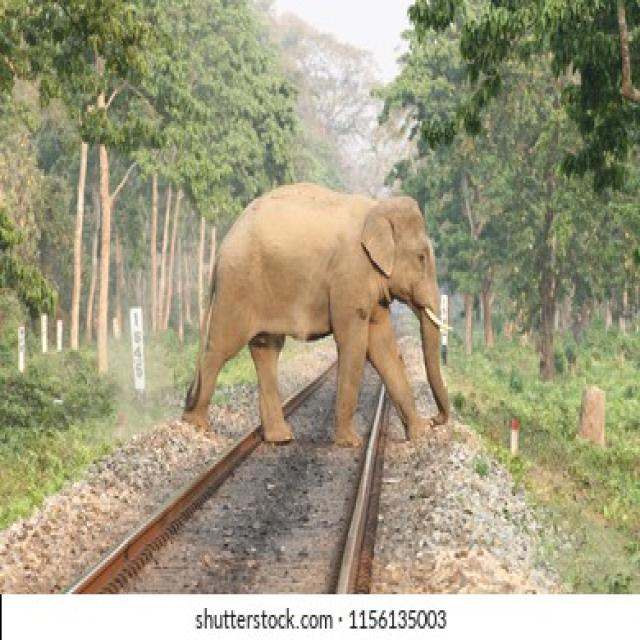Elephant: (180, 168, 480, 463)
